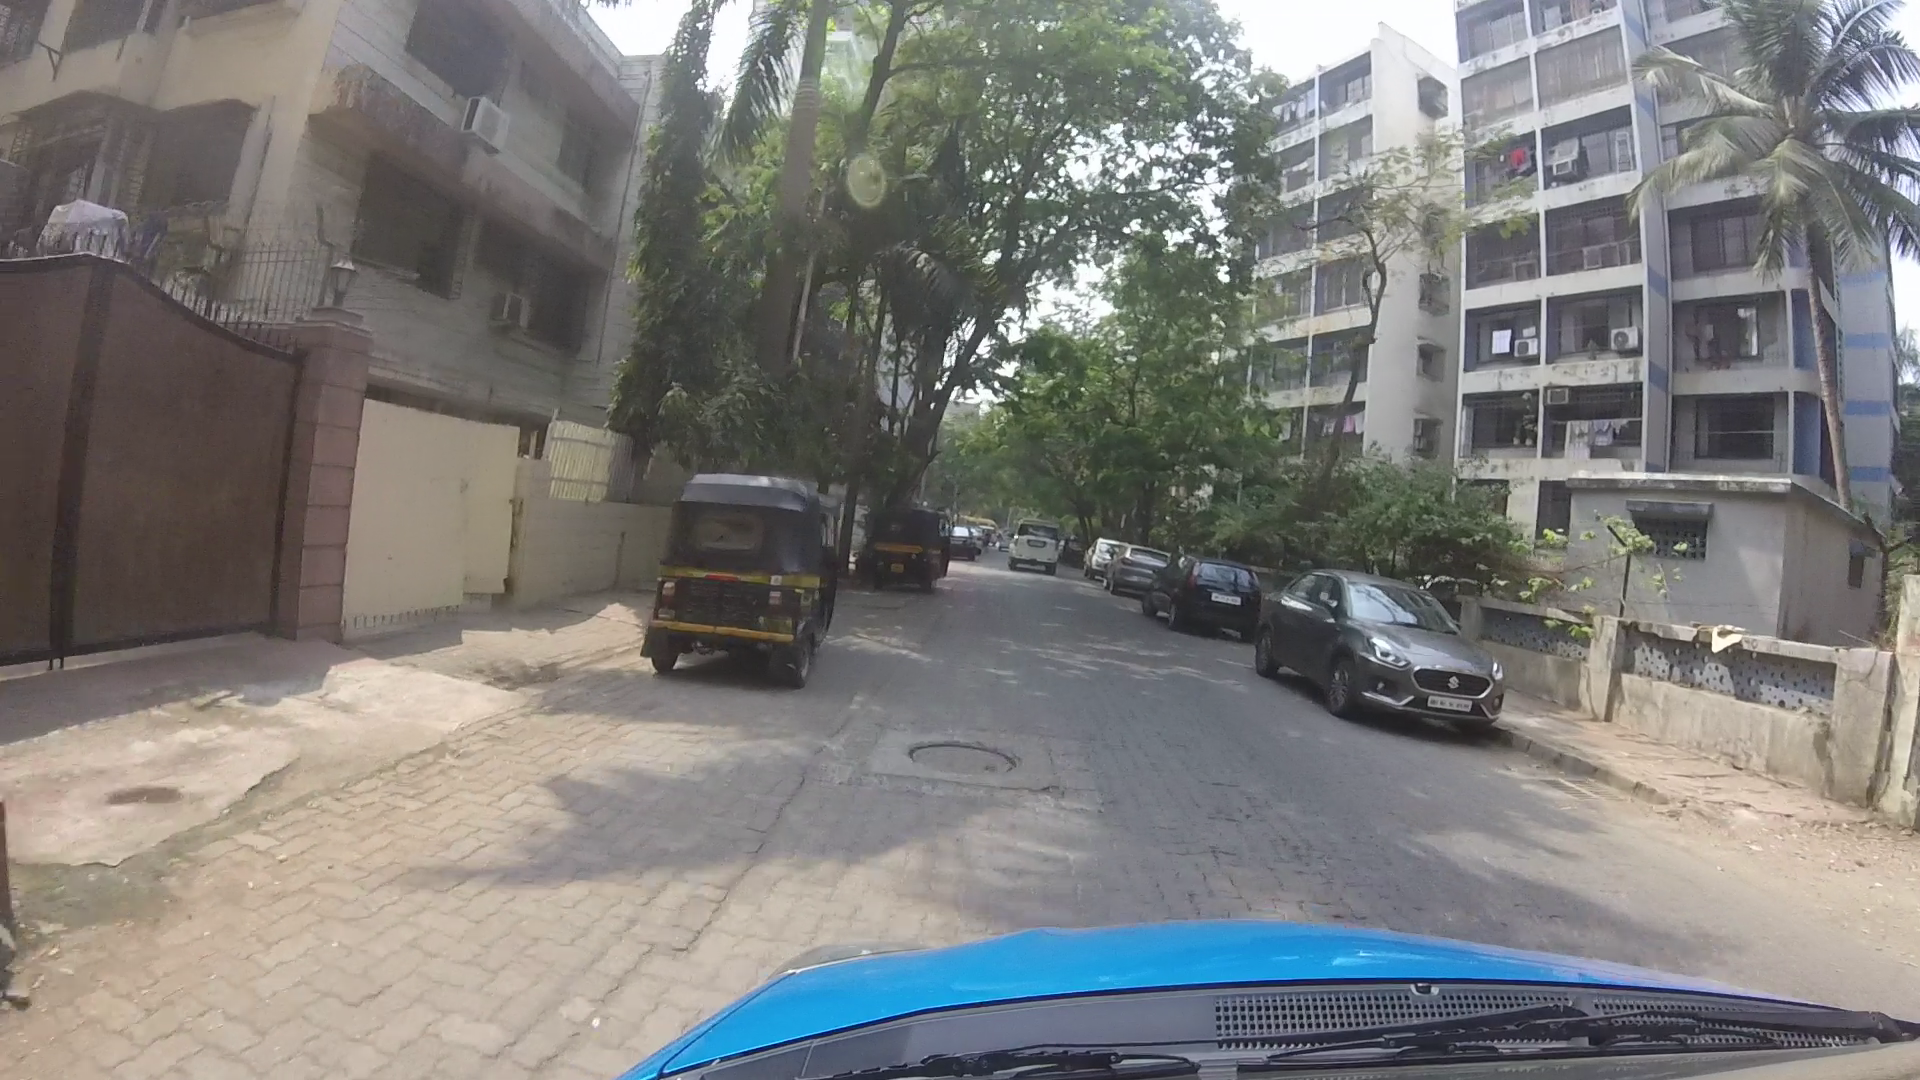car: (1249, 568, 1519, 736), (1139, 549, 1266, 630)
rickshaw: (634, 465, 833, 686)
